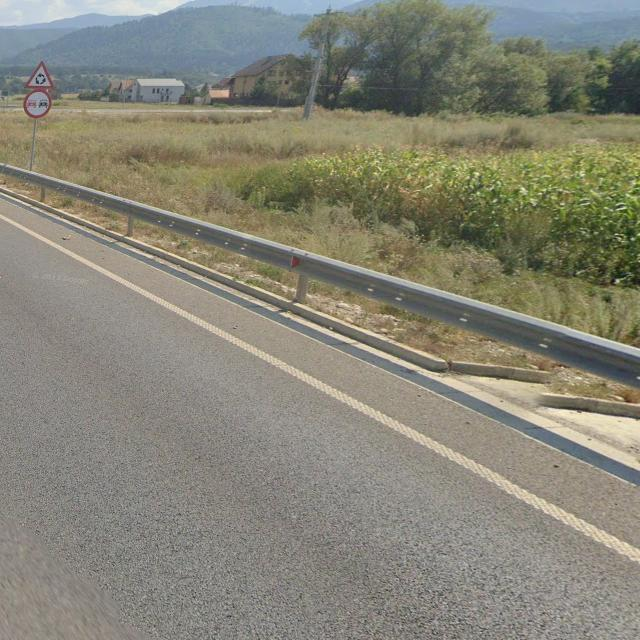forb_overtake: (24, 93, 53, 117)
